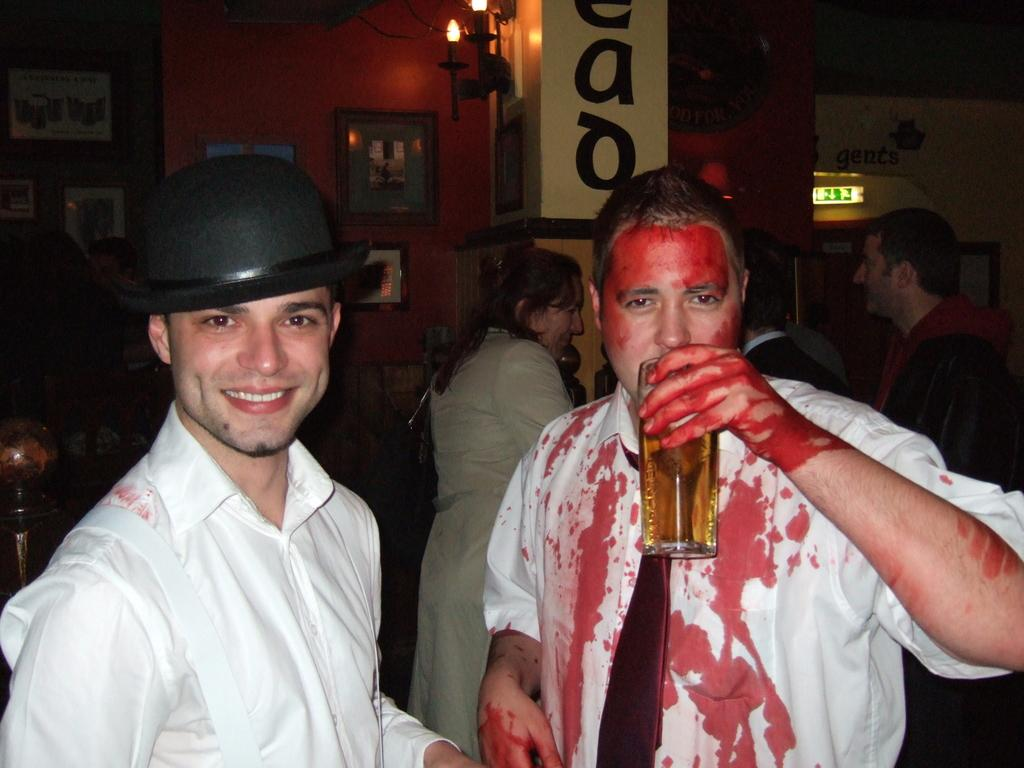Hat: (101, 150, 371, 314)
